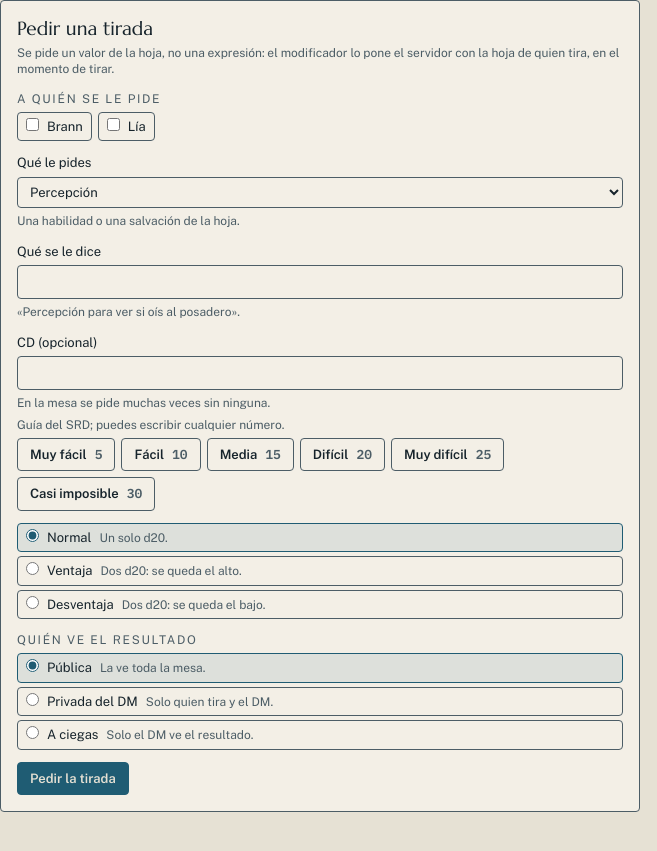
Test: PedirTirada › sin personajes marcados no se pide nada y se dice por qué
Expected: the checkbox labelled "Brann" is shown, [26,118,39,131]
In the field labelled "Qué se le dice": [320, 282] box [17,265,623,299], type "Percepción"
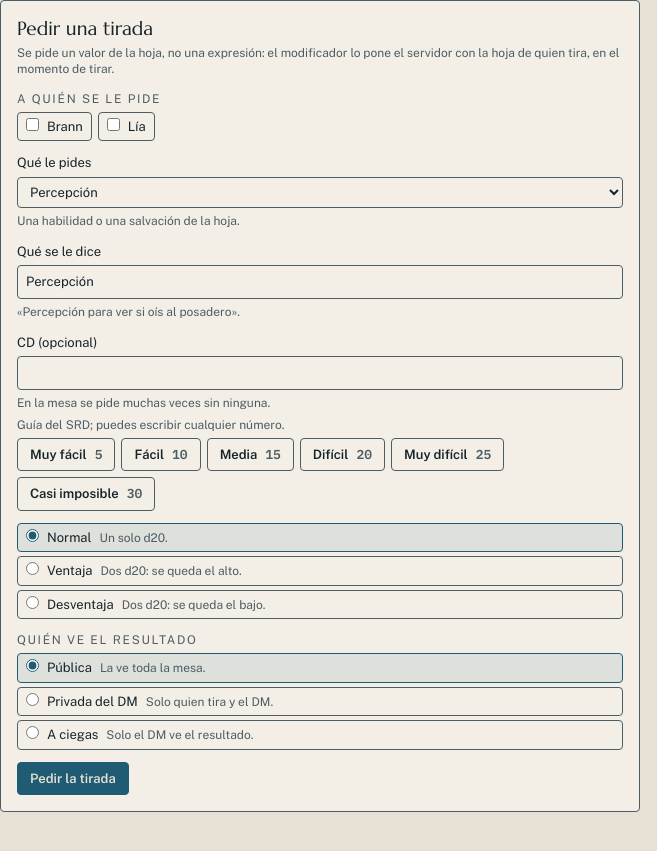
Click the button "Pedir la tirada": [73, 779] box [17,762,129,795]
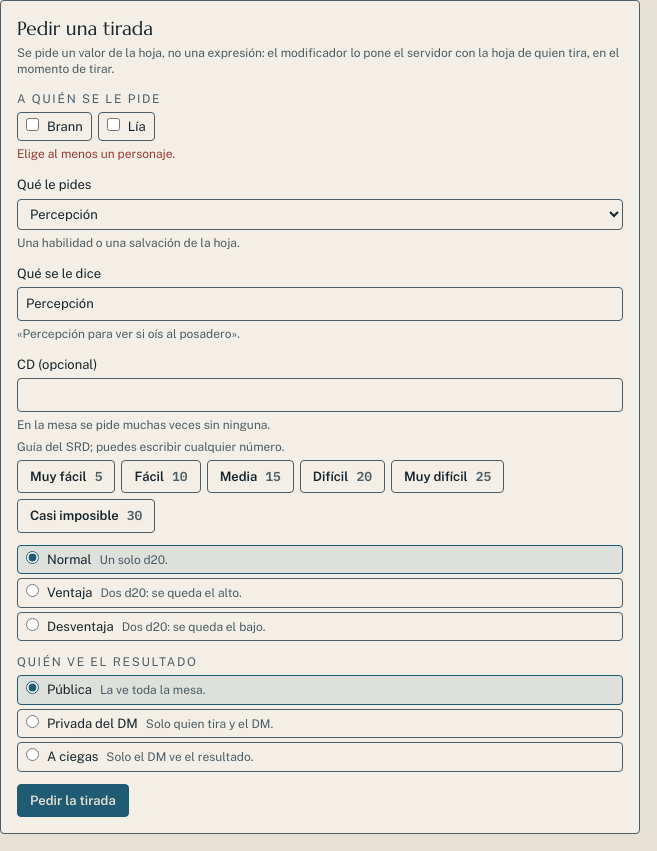
Now the text "Elige al menos un personaje." is shown, box [17,147,175,161]
